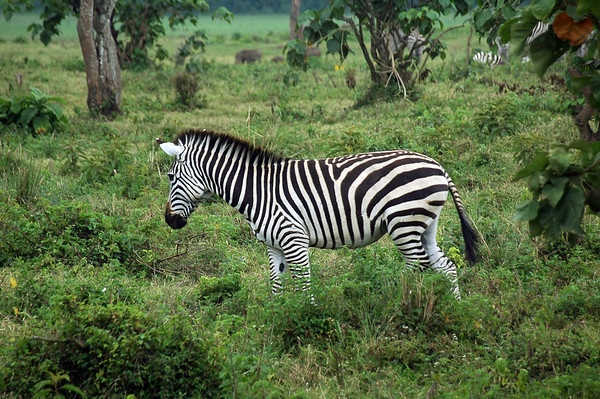zebra: (321, 223, 600, 399)
